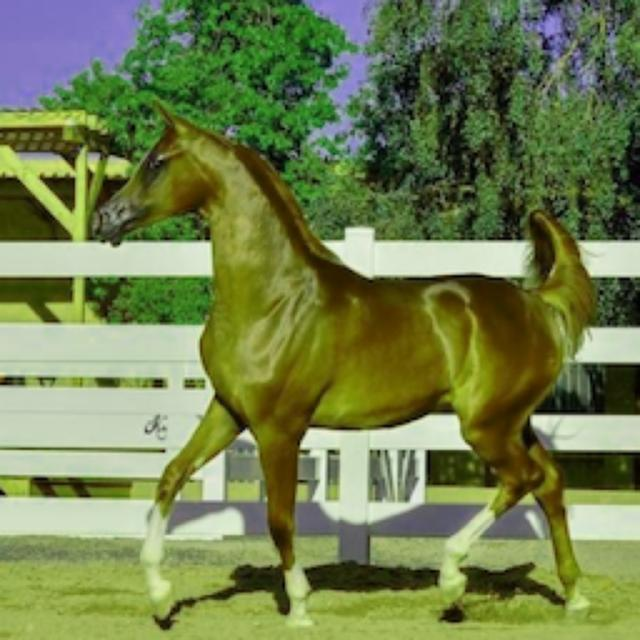Horse: (85, 92, 605, 630)
